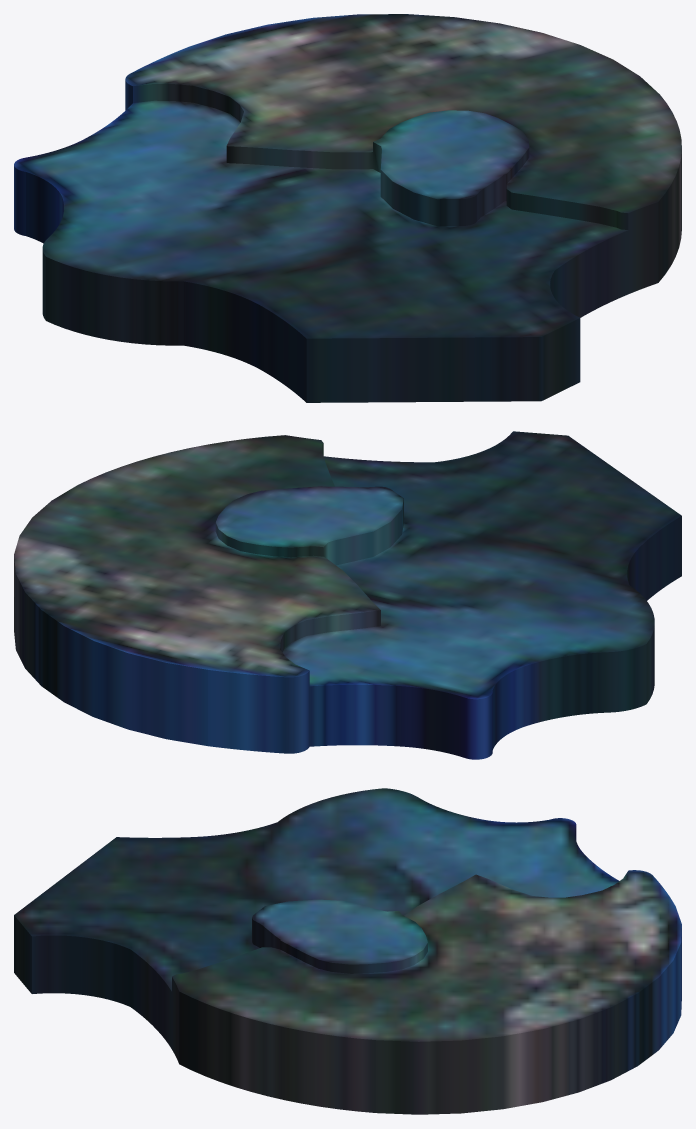
Rendered from sin titulo odontologia 6.dae.
3 renders of one model, top to bottom at view 1: azimuth 30°, elevation 25°; view 2: azimuth 150°, elevation 25°; view 3: azimuth 270°, elevation 25°, orthographic. The views are drawn at different scales.
Visible parts, largest first — view 1: SketchUp; view 2: SketchUp; view 3: SketchUp.
Part boxes in pixels (x1,y1,x2,y2): SketchUp: [14, 14, 681, 402]; SketchUp: [14, 431, 681, 759]; SketchUp: [14, 788, 681, 1114].
Bounding box in the file's own units: 11.86 × 12.45 × 1.69.
Materials: 1 (1 with a texture image).
